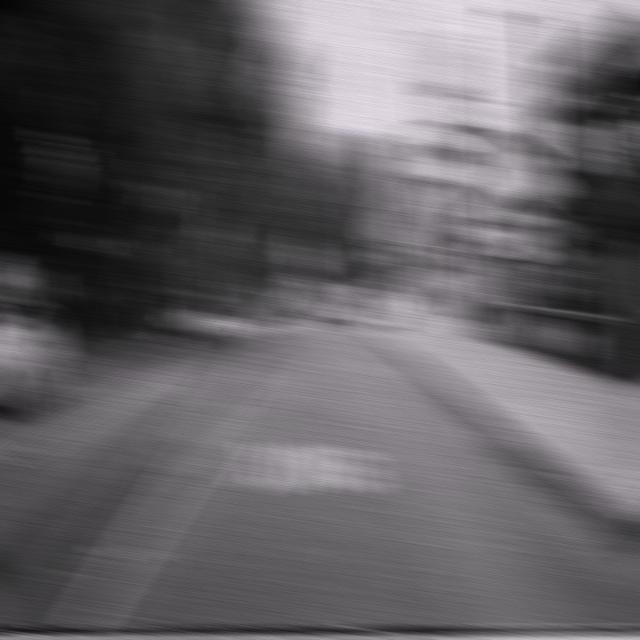pedestrianCrossing: (368, 217, 402, 254)
